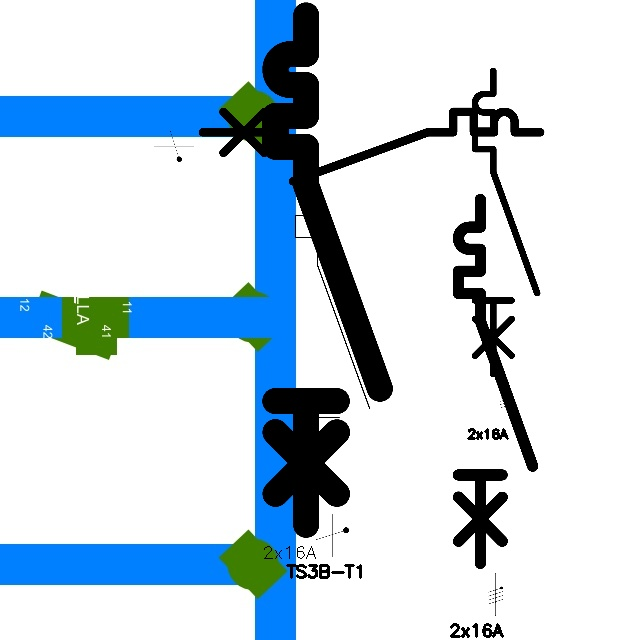interruptor_termomagnetico: (262, 2, 393, 538), (449, 190, 542, 572), (286, 135, 378, 514), (194, 103, 548, 189), (467, 63, 545, 382)
